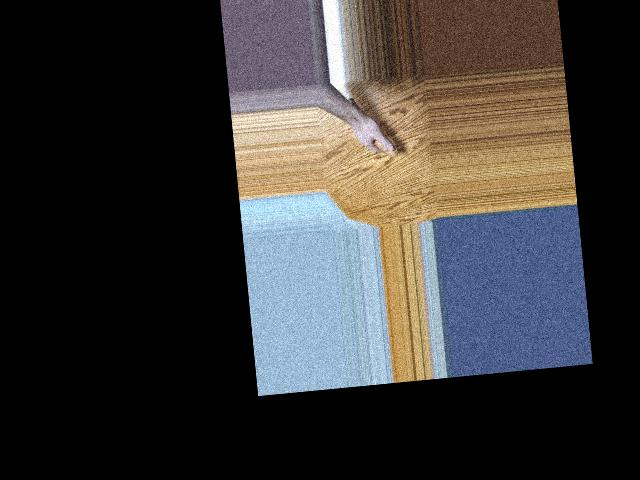sweet_potato: (342, 91, 398, 162)
